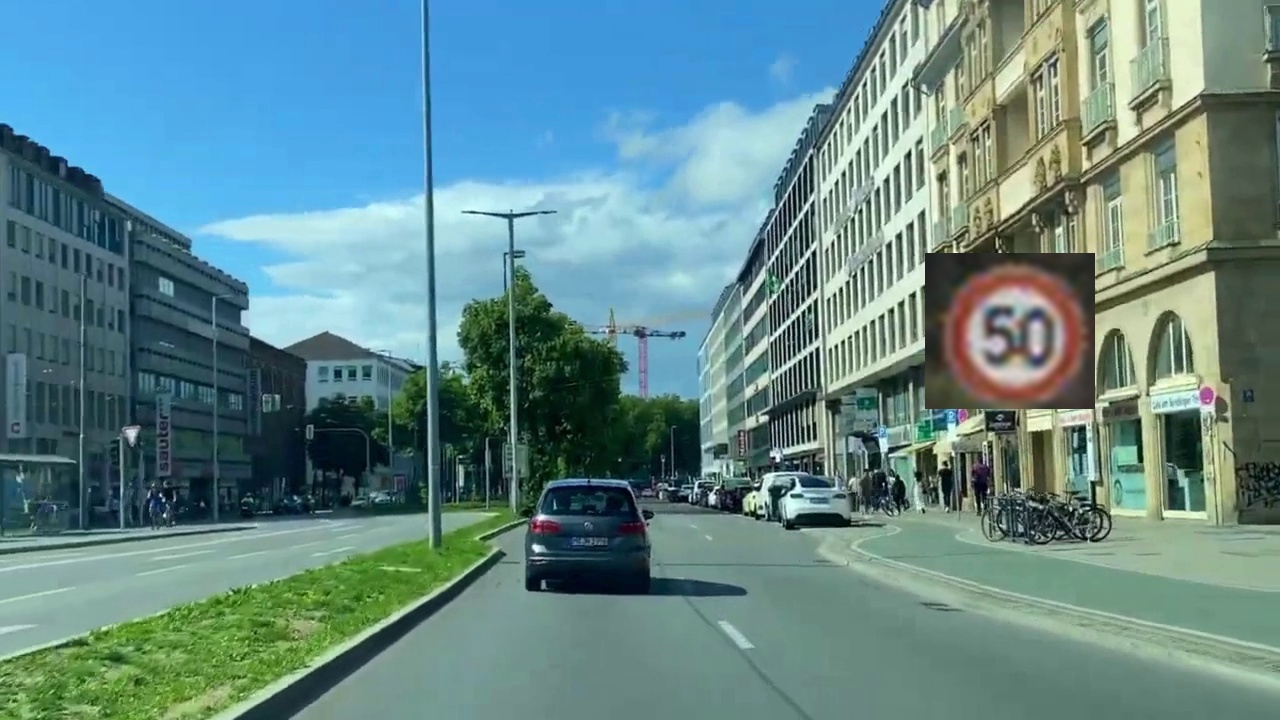Speed 50: (925, 253, 1095, 409)
